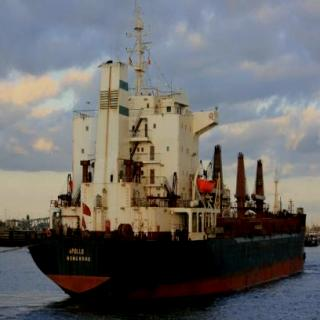Bulk Carrier: (26, 18, 299, 312)
